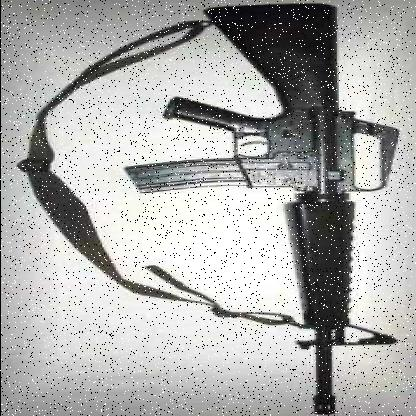rifle: (122, 0, 407, 411)
